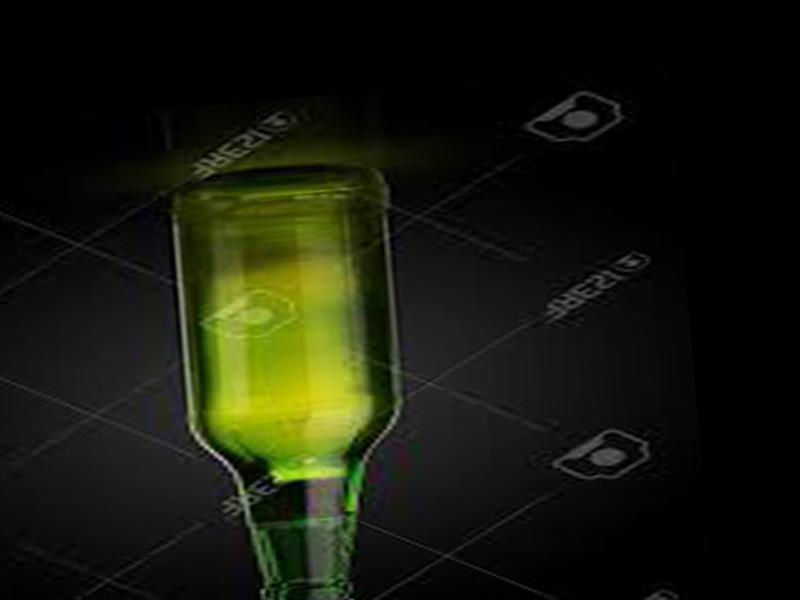Beer: (164, 162, 415, 600)
